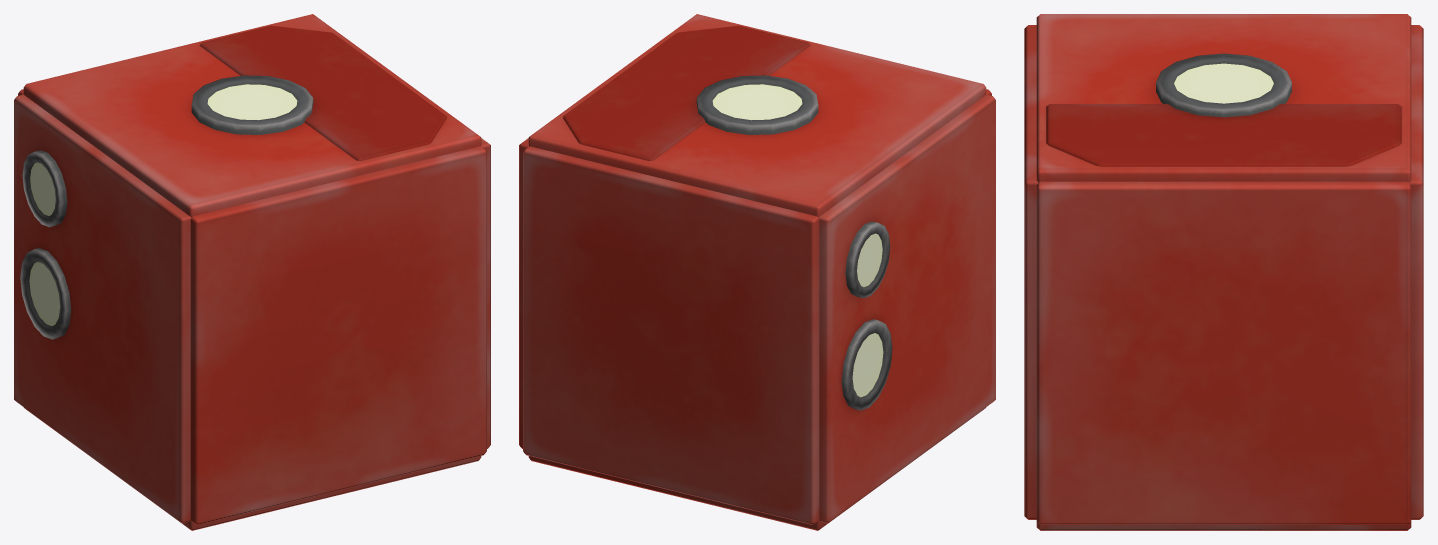
The model's file is LandingPoint_NewRed.fbx.
3 renders of one model, left to right at view 1: azimuth 30°, elevation 25°; view 2: azimuth 150°, elevation 25°; view 3: azimuth 270°, elevation 25°, orthographic. The views are drawn at different scales.
Visible parts, largest first — view 1: StartingRed; view 2: StartingRed; view 3: StartingRed.
Part boxes in pixels (left/top/right/bottom): StartingRed: left=14, top=14, right=490, bottom=530; StartingRed: left=519, top=14, right=995, bottom=530; StartingRed: left=1024, top=14, right=1423, bottom=530.
Size of the model in its own units: 204 by 205 by 200.
